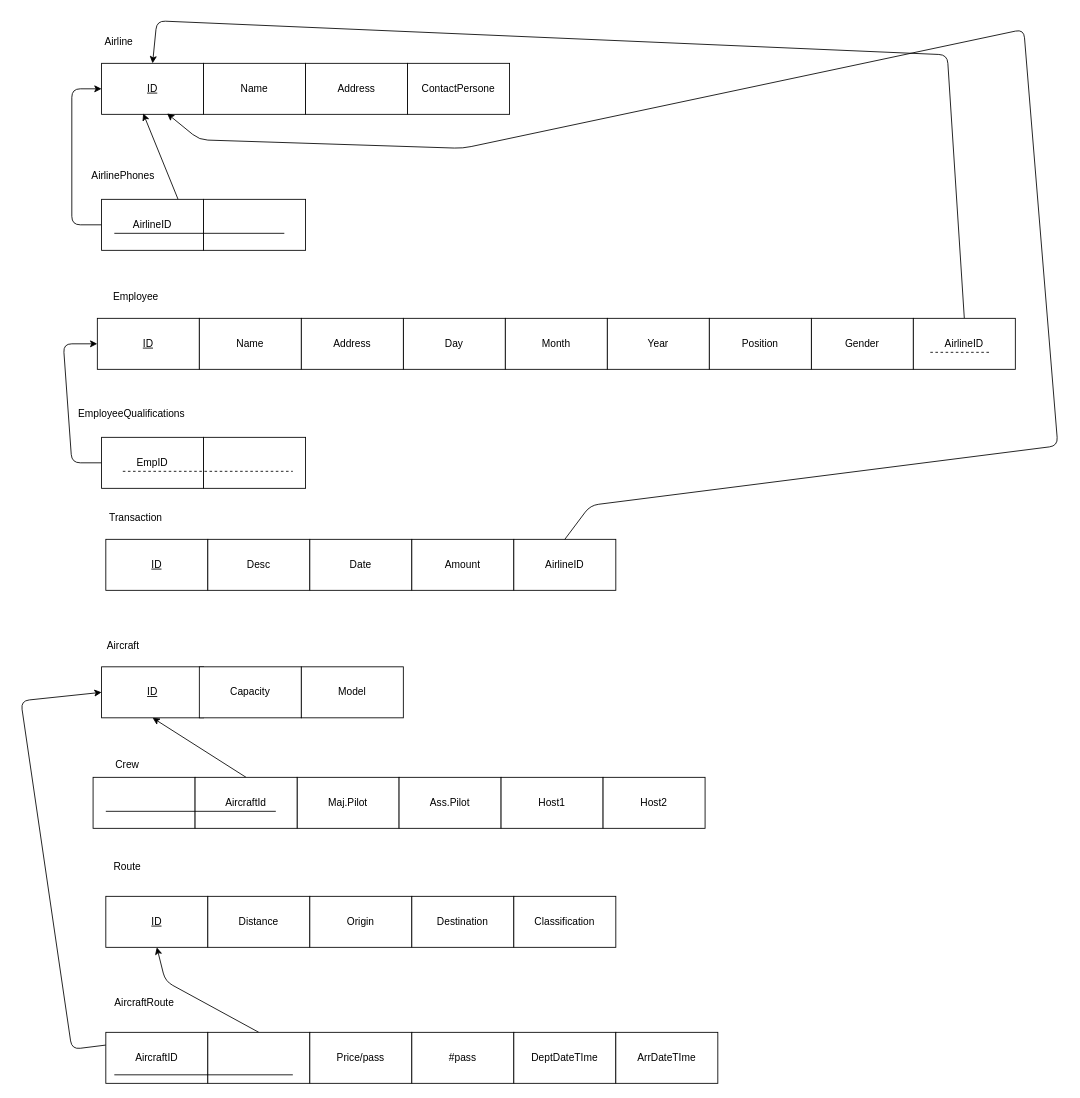
Image size: 1080x1098. Some labels were removed from this diagram. The box of each missing label's shape, as (x1, y1, x2, y2) in pixels:
CrewID: (92, 776, 195, 828)
Phone: (203, 198, 306, 250)
Qualification: (203, 436, 306, 488)
RouteIID: (207, 1031, 310, 1083)
